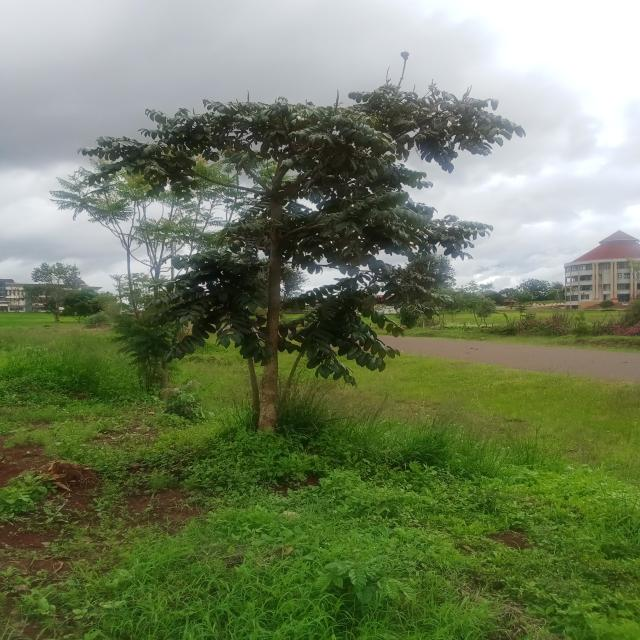Polyscias Kikuyensis: (78, 74, 527, 435)
